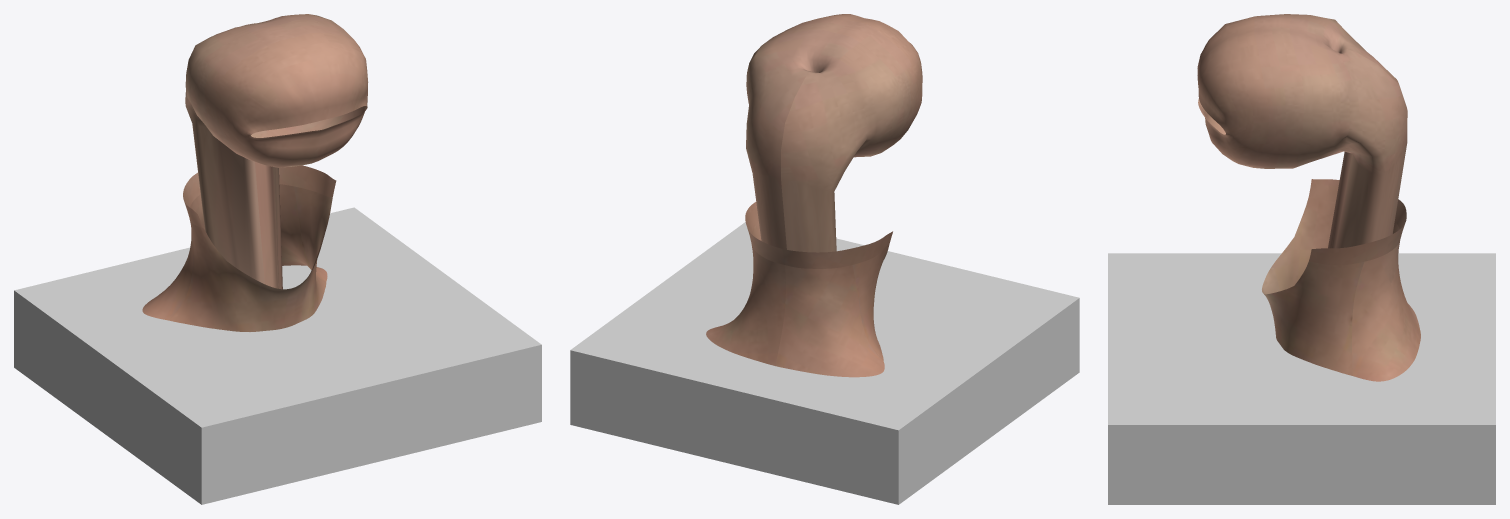
Rendered from newbase_0.obj.
3 renders of one model, left to right at view 1: azimuth 30°, elevation 25°; view 2: azimuth 150°, elevation 25°; view 3: azimuth 270°, elevation 25°, orthographic. The views are drawn at different scales.
Visible parts, largest first — view 1: object_1, Genesis2Female, neck; view 2: object_1, Genesis2Female, neck; view 3: object_1, Genesis2Female, neck.
Part boxes in pixels (x1,y1,x2,y2): object_1: (14,207,541,504); Genesis2Female: (185,14,368,289); neck: (142,165,336,331); object_1: (570,222,1079,504); Genesis2Female: (746,14,922,252); neck: (706,202,892,377); object_1: (1108,253,1495,504); Genesis2Female: (1197,14,1407,248); neck: (1262,179,1420,381).
Bounding box in the file's own units: 0.1224 × 0.13 × 0.1169.
